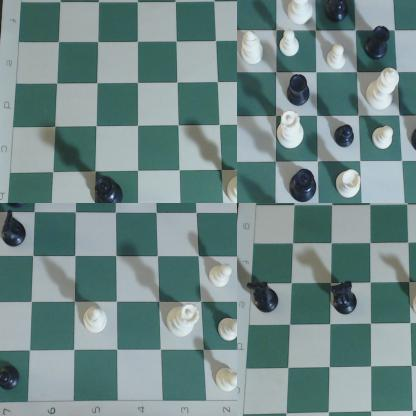black-knight: (245, 277, 280, 317), (329, 278, 361, 318), (1, 213, 28, 246), (328, 1, 350, 23)
black-pawn: (1, 362, 23, 396), (336, 125, 357, 150)
black-queen: (94, 172, 127, 203), (291, 168, 318, 203)
black-rook: (364, 25, 392, 61), (287, 74, 312, 108)
white-bishop: (241, 29, 266, 66), (84, 308, 111, 335)
white-king: (366, 67, 401, 110)
white-knight: (408, 280, 416, 322)
white-pawn: (214, 366, 237, 399), (279, 30, 302, 58), (327, 42, 347, 72), (373, 126, 395, 152), (217, 318, 237, 342)
white-queen: (168, 300, 201, 341), (277, 111, 306, 150), (288, 1, 315, 27), (225, 169, 237, 203)
white-rook: (204, 262, 237, 291), (336, 169, 365, 199)
